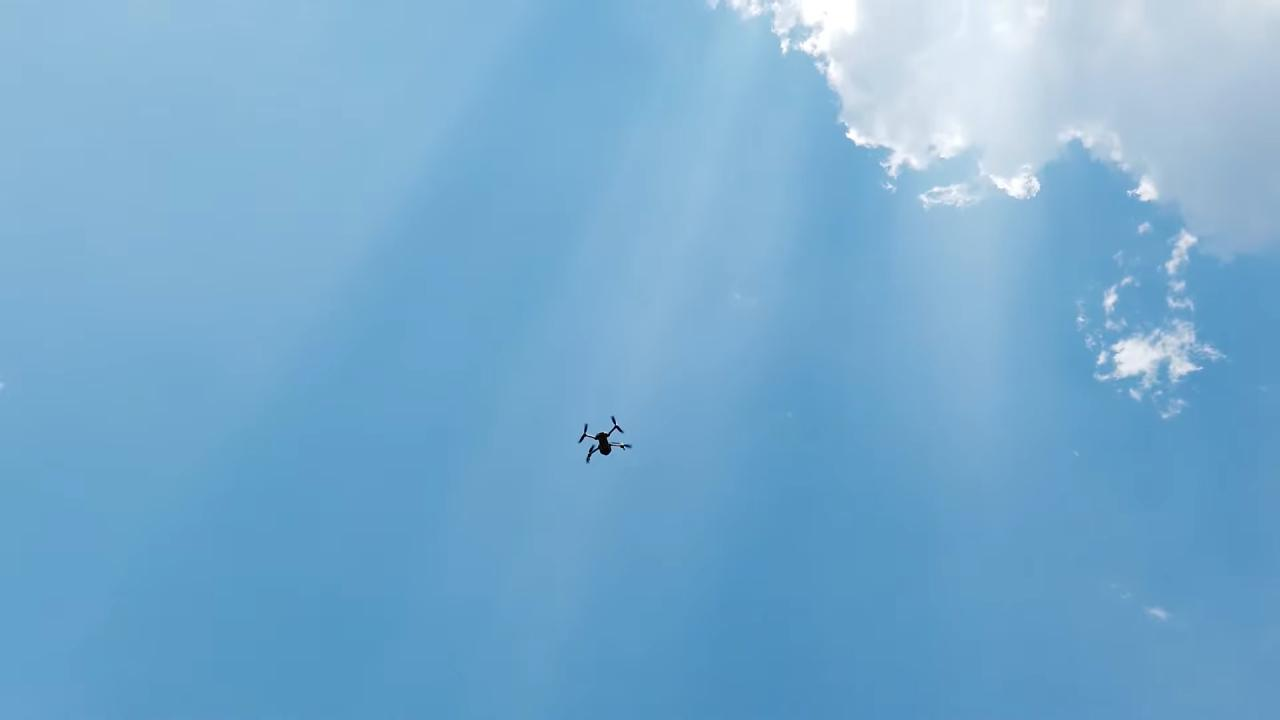Drone: (570, 404, 639, 472)
